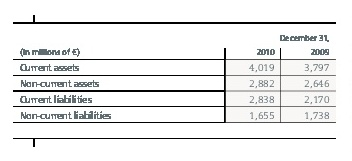table: (0, 0, 352, 161)
